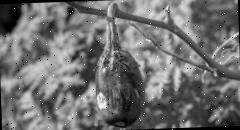organic: (152, 1, 240, 82), (90, 31, 148, 129)
